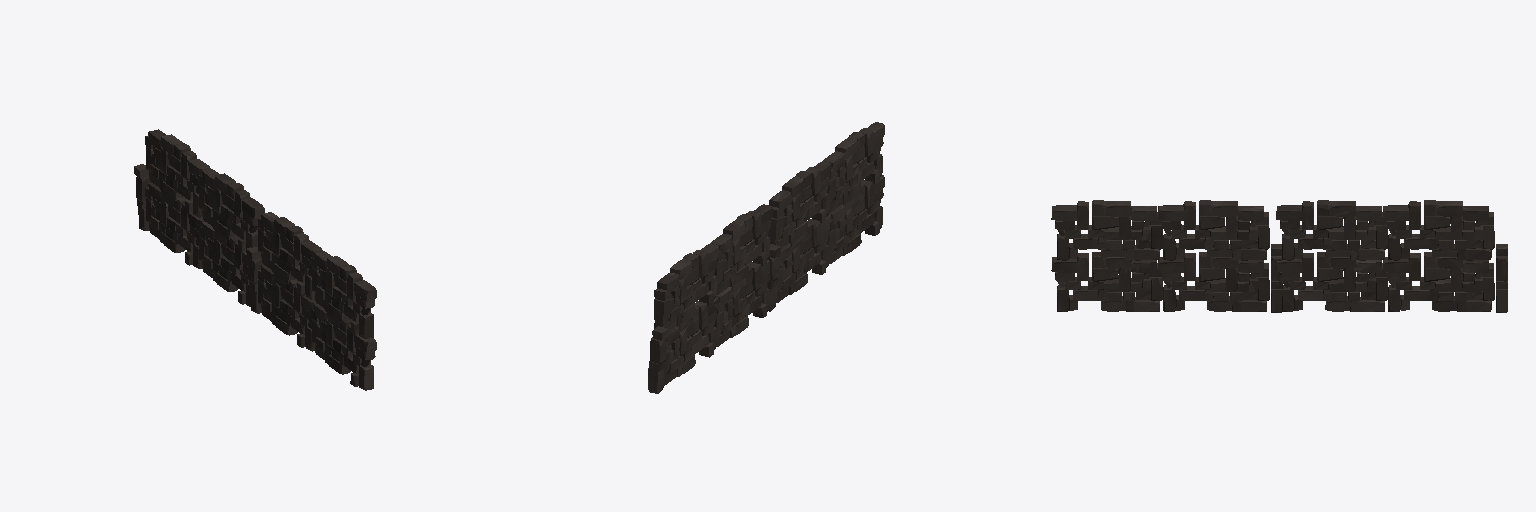
The picture shows the model from 3 angles: view 1: azimuth 30°, elevation 25°; view 2: azimuth 150°, elevation 25°; view 3: azimuth 270°, elevation 25°; orthographic projection.
Visible parts, largest first — view 1: Transparent_Wall_Ground_Plane.3670; view 2: Transparent_Wall_Ground_Plane.3670; view 3: Transparent_Wall_Ground_Plane.3670.
Boxes of the visible parts, box(x1,y1,x2,y2) form: Transparent_Wall_Ground_Plane.3670: box(134, 129, 376, 390); Transparent_Wall_Ground_Plane.3670: box(648, 122, 884, 393); Transparent_Wall_Ground_Plane.3670: box(1051, 200, 1507, 312).
Size of the model in its own units: 5.87 by 35.85 by 137.
Materials: 1 (1 with a texture image).